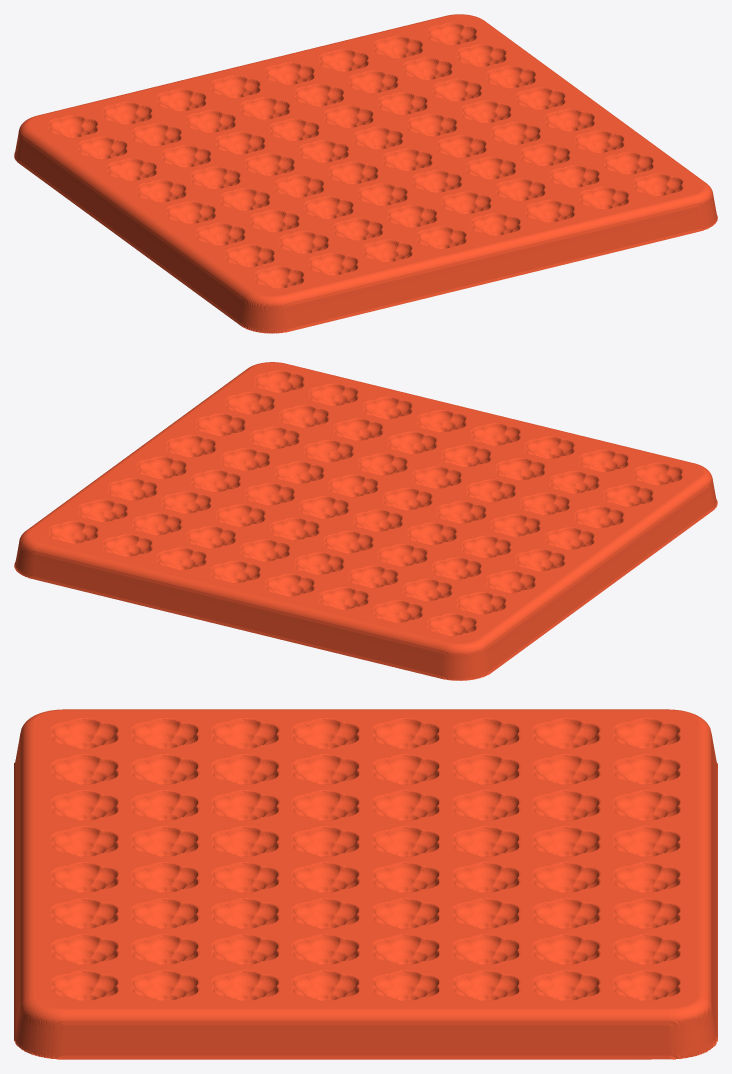
The model's file is mold.glb.
3 renders of one model, top to bottom at view 1: azimuth 30°, elevation 25°; view 2: azimuth 150°, elevation 25°; view 3: azimuth 270°, elevation 25°, orthographic. The views are drawn at different scales.
Visible parts, largest first — view 1: geometry_0; view 2: geometry_0; view 3: geometry_0.
Part boxes in pixels (x1,y1,x2,y2): geometry_0: (14, 14, 717, 333); geometry_0: (14, 362, 717, 680); geometry_0: (14, 709, 717, 1059).
Size of the model in its own units: 0.1355 by 0.00862 by 0.1283.
